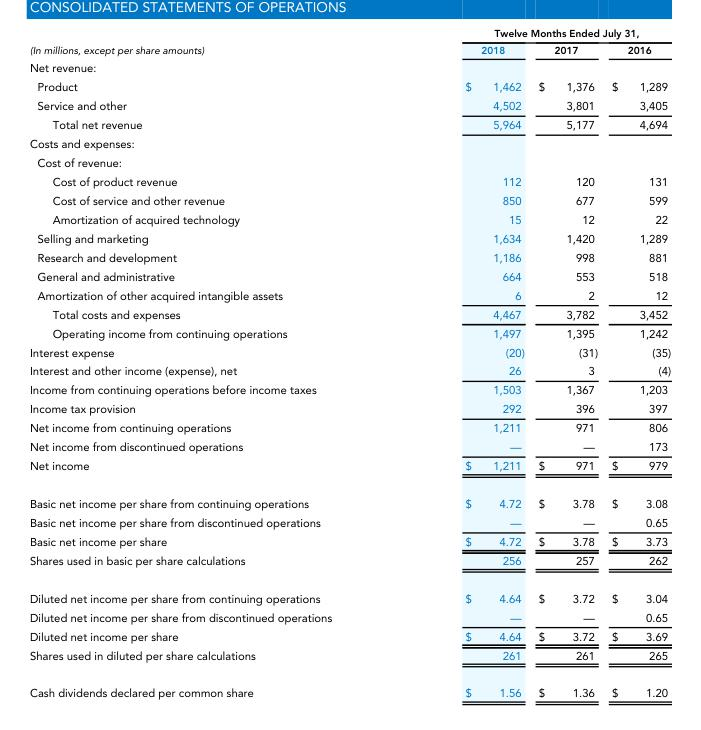table: (28, 28, 670, 699)
table column: (28, 28, 397, 699), (397, 28, 530, 699), (530, 28, 604, 699), (604, 28, 670, 699)
table column header: (28, 28, 670, 59)
table projected row header: (28, 134, 670, 153), (28, 153, 670, 172), (28, 59, 670, 77)
table row: (28, 456, 670, 485), (28, 579, 670, 608), (28, 485, 670, 513), (28, 551, 670, 579), (28, 646, 670, 674), (28, 674, 670, 699), (28, 77, 670, 96), (28, 96, 670, 115), (28, 115, 670, 134), (28, 134, 670, 153), (28, 153, 670, 172), (28, 172, 670, 191), (28, 191, 670, 210), (28, 210, 670, 229), (28, 229, 670, 248), (28, 248, 670, 267), (28, 267, 670, 286), (28, 286, 670, 305), (28, 305, 670, 324), (28, 324, 670, 343), (28, 343, 670, 362), (28, 362, 670, 381), (28, 399, 670, 418), (28, 418, 670, 437), (28, 437, 670, 456), (28, 513, 670, 532), (28, 532, 670, 551), (28, 608, 670, 627), (28, 627, 670, 646), (28, 59, 670, 77), (28, 381, 670, 399), (28, 42, 670, 59), (28, 28, 670, 42)
table spanning cell: (28, 28, 397, 59), (397, 28, 670, 42)
